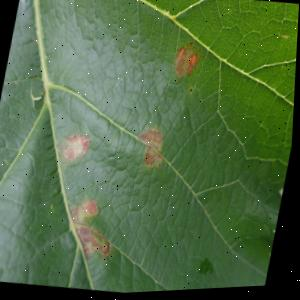Folha: (0, 0, 300, 300)
Fungo: (66, 196, 123, 264), (72, 223, 117, 264), (135, 127, 170, 172), (172, 41, 204, 83), (62, 131, 93, 165), (73, 197, 103, 226), (83, 198, 102, 219), (174, 59, 190, 80), (186, 54, 199, 76), (64, 146, 78, 163), (177, 47, 186, 63), (187, 65, 195, 76), (281, 37, 289, 42)
